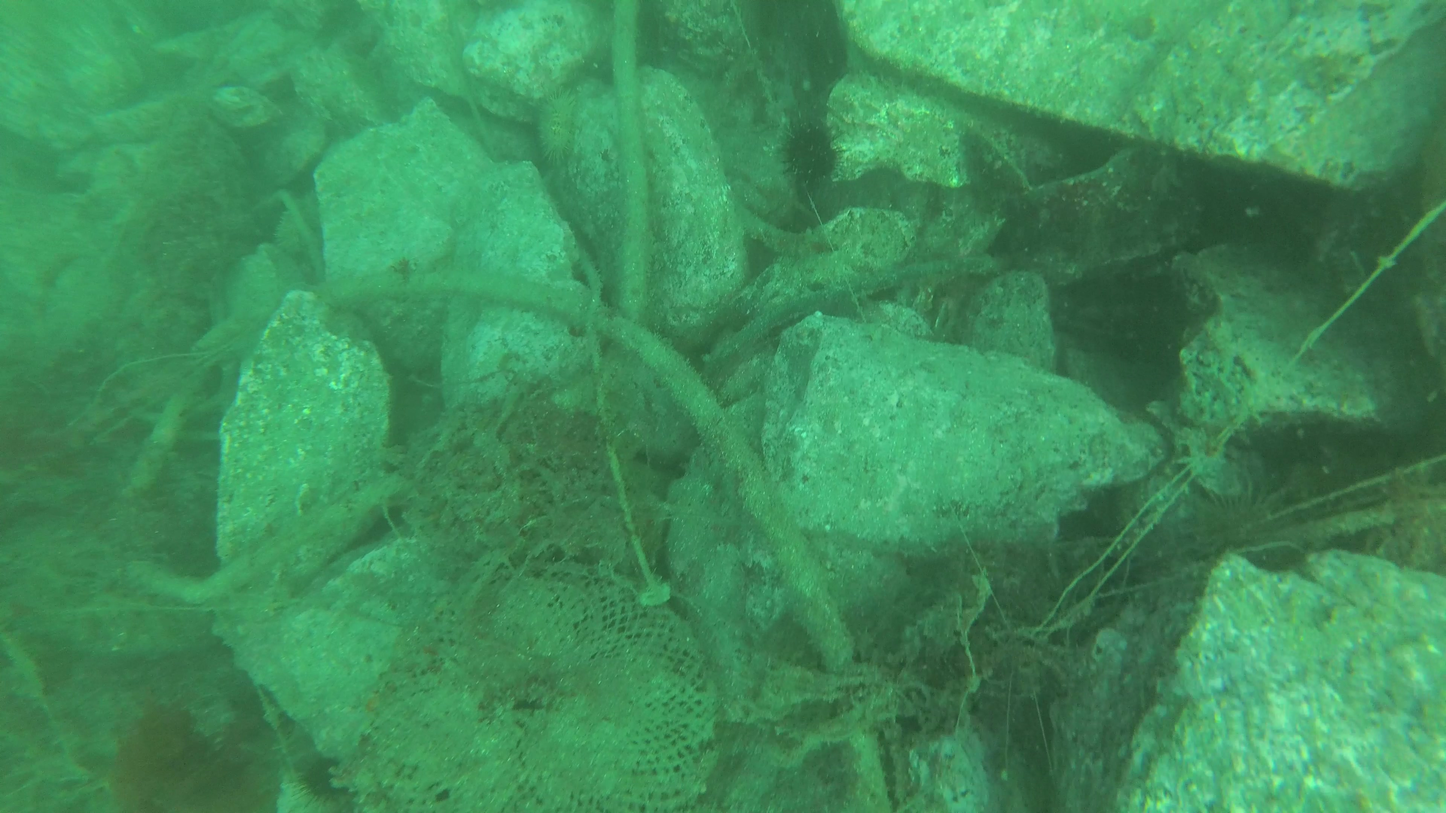echinus: (17, 318, 112, 433), (148, 172, 236, 286), (538, 84, 577, 176)
starfish: (1191, 480, 1281, 555), (782, 119, 844, 193), (286, 753, 356, 806)
